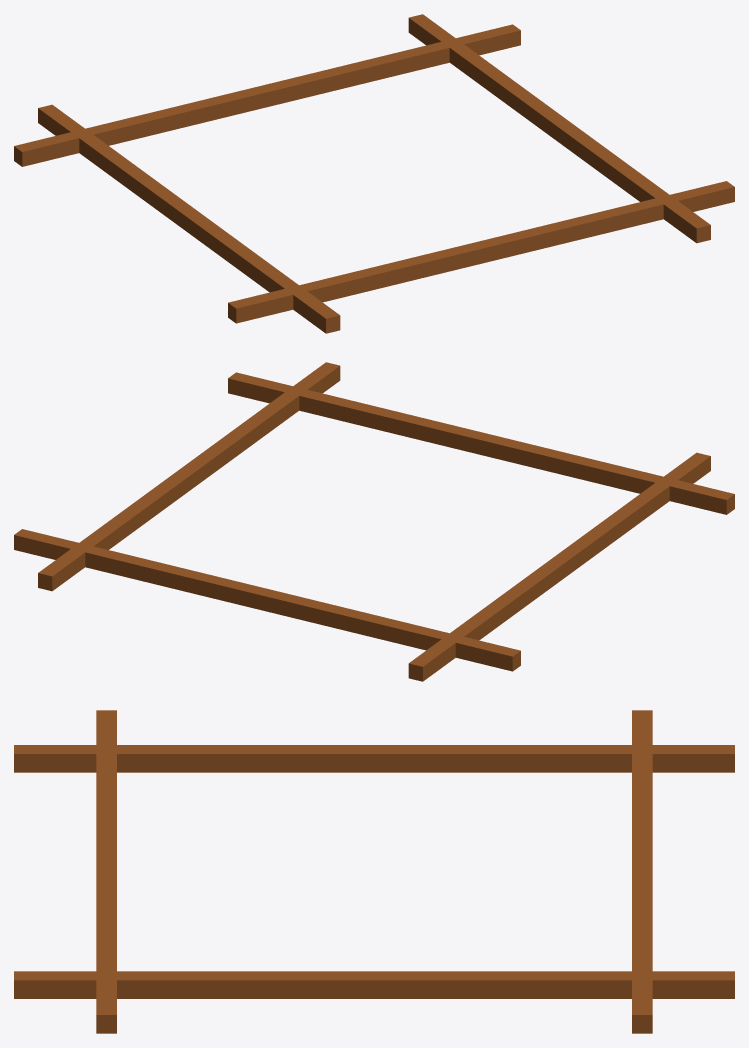
The model's file is Buildings_Wooden_Framework_01.fbx.
3 views of the same model, one above another, from view 1: azimuth 30°, elevation 25°; view 2: azimuth 150°, elevation 25°; view 3: azimuth 270°, elevation 25° (orthographic). The views are drawn at different scales.
Visible parts, largest first — view 1: Model; view 2: Model; view 3: Model.
Boxes of the visible parts, x1,y1,x2,y2 form: Model: [14, 14, 734, 333]; Model: [14, 362, 734, 681]; Model: [14, 710, 734, 1033].
Bounding box in the file's own units: 1517 × 43.35 × 1517.
